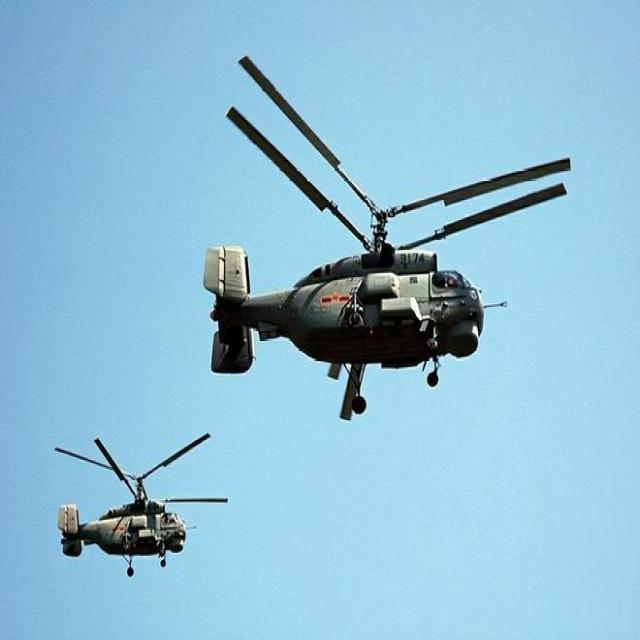MIL_HELO: (195, 50, 573, 422), (53, 430, 234, 585)
